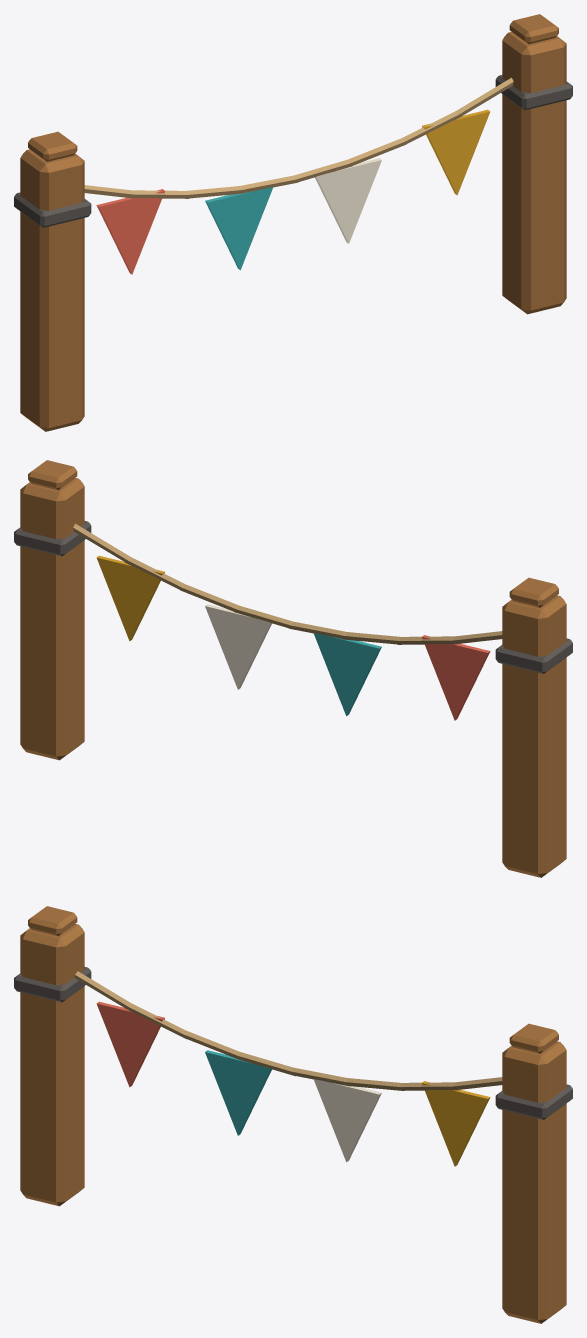
The model's file is bunting_posts.glb.
The picture shows the model from 3 angles, top to bottom: view 1: azimuth 30°, elevation 25°; view 2: azimuth 150°, elevation 25°; view 3: azimuth 330°, elevation 25°; orthographic projection.
Parts seen in each view (by area): view 1: bunting_posts, part_flag_1, part_flag_2, part_flag_0, part_flag_3; view 2: bunting_posts, part_flag_1, part_flag_2, part_flag_0, part_flag_3; view 3: bunting_posts, part_flag_2, part_flag_1, part_flag_3, part_flag_0.
Boxes of the visible parts, x1,y1,x2,y2 form: bunting_posts: (14, 14, 572, 431); part_flag_1: (205, 187, 273, 270); part_flag_2: (315, 158, 381, 243); part_flag_0: (96, 189, 164, 274); part_flag_3: (422, 109, 490, 195); bunting_posts: (14, 460, 572, 877); part_flag_1: (313, 633, 381, 716); part_flag_2: (205, 604, 271, 689); part_flag_0: (422, 635, 490, 720); part_flag_3: (96, 555, 164, 641); bunting_posts: (14, 906, 572, 1323); part_flag_2: (313, 1079, 381, 1162); part_flag_1: (205, 1050, 271, 1135); part_flag_3: (422, 1081, 490, 1166); part_flag_0: (96, 1001, 164, 1087).
Bounding box in the file's own units: 1.77 × 0.89 × 0.17.
